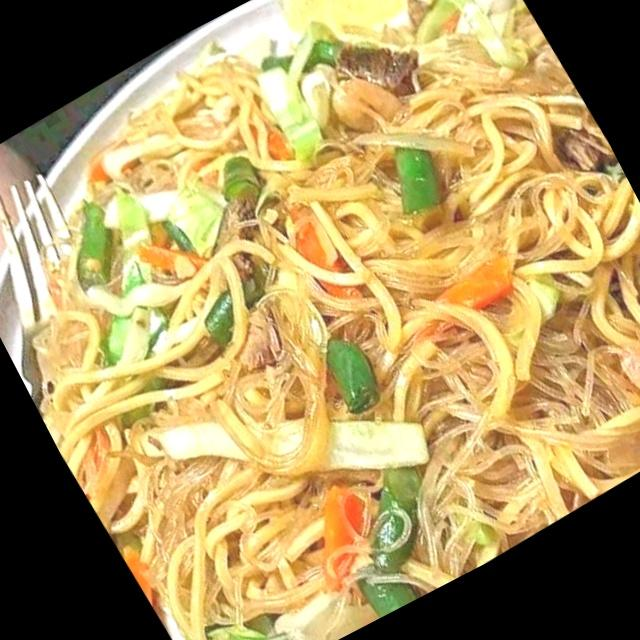pancit bihon: (37, 0, 639, 639)
